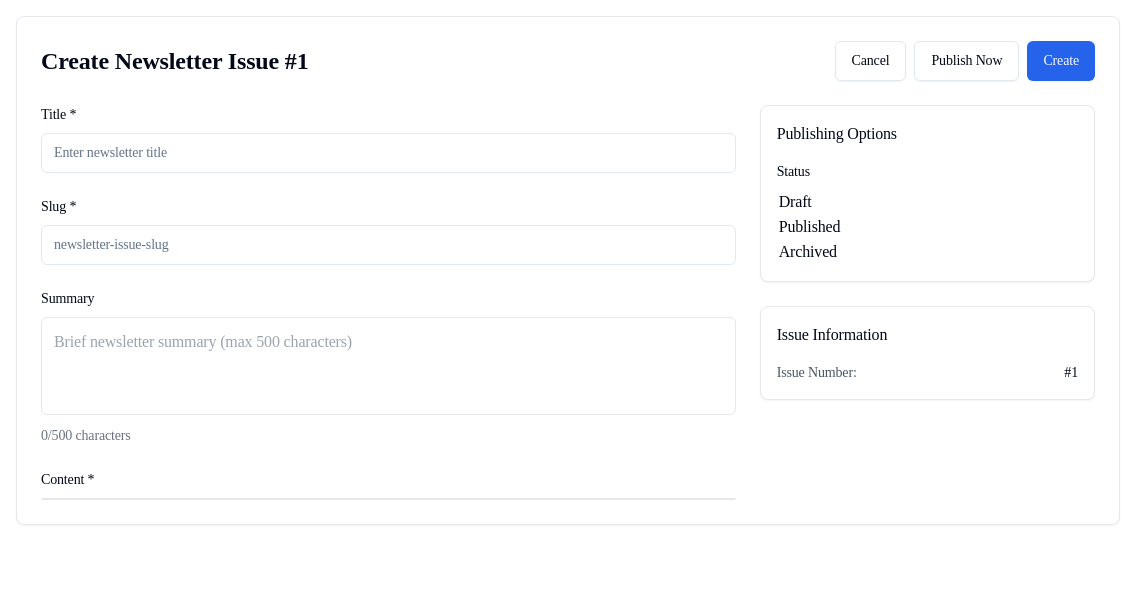
Test: NewsletterIssueForm › validates slug format
Type "Invalid Slug With Spaces" into the field with placeholder "newsletter-issue-slug".
click(388, 245); type("Invalid Slug With Spaces")  # box [41,225,736,265]
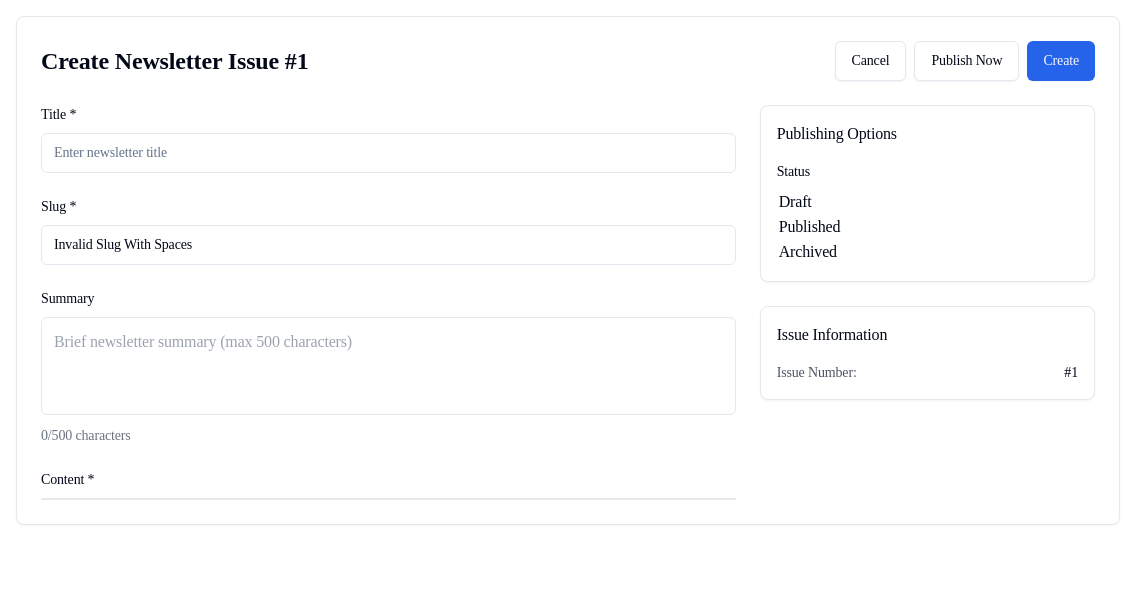
Click the button "Create".
click(1061, 61)  # box [1027,41,1095,81]
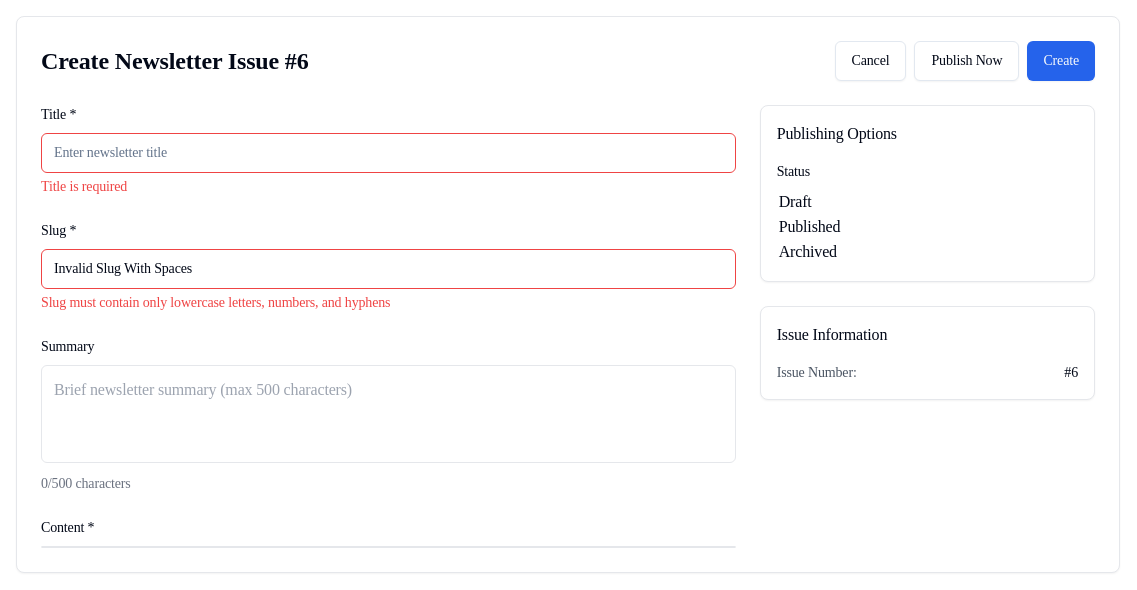
Check: the text "Slug must contain only lowercase letters, numbers, and hyphens" is shown, box [41,295,390,310]
